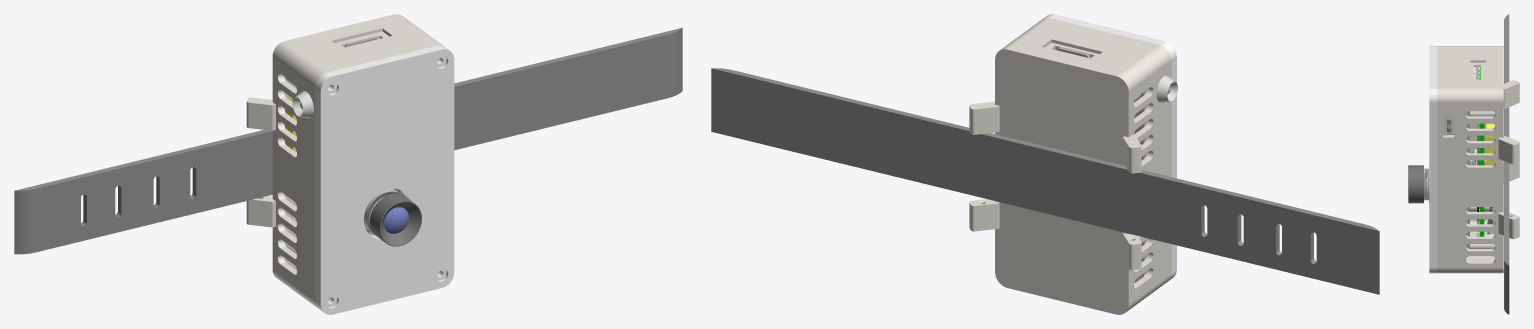
The model's file is main-assembly.glb.
3 renders of one model, left to right at view 1: azimuth 30°, elevation 25°; view 2: azimuth 150°, elevation 25°; view 3: azimuth 270°, elevation 25°, orthographic. The views are drawn at different scales.
Parts seen in each view (by area): view 1: Wrist Strap-2, Case Lid-1, Case Bottom-1, Component1_3-1, SL2616 - 3mm Grn LED.step-2; view 2: Wrist Strap-2, Case Bottom-1, Case Lid-1, SL2616 - 3mm Grn LED.step-2; view 3: Case Bottom-1, Case Lid-1, Wrist Strap-2, Component1_3-1, PCB, Raspberry Pi Zero 2 W-1, SS12D00G3 Switch-3, Battery-2, Mounting Plate-2.
Boxes of the visible parts, left/top/right/bottom form: Wrist Strap-2: left=14, top=27, right=682, bottom=254; Case Lid-1: left=315, top=45, right=454, bottom=314; Case Bottom-1: left=246, top=14, right=443, bottom=307; Component1_3-1: left=364, top=188, right=421, bottom=246; SL2616 - 3mm Grn LED.step-2: left=292, top=91, right=313, bottom=118; Wrist Strap-2: left=711, top=68, right=1379, bottom=294; Case Bottom-1: left=969, top=18, right=1171, bottom=314; Case Lid-1: left=1043, top=14, right=1176, bottom=280; SL2616 - 3mm Grn LED.step-2: left=1156, top=75, right=1177, bottom=102; Case Bottom-1: left=1437, top=46, right=1519, bottom=273; Case Lid-1: left=1429, top=46, right=1437, bottom=273; Wrist Strap-2: left=1504, top=14, right=1509, bottom=314; Component1_3-1: left=1408, top=165, right=1429, bottom=203; PCB, Raspberry Pi Zero 2 W-1: left=1480, top=67, right=1484, bottom=236; SS12D00G3 Switch-3: left=1443, top=116, right=1453, bottom=134; Battery-2: left=1486, top=123, right=1495, bottom=165; Mounting Plate-2: left=1466, top=111, right=1469, bottom=248.
Size of the model in its own units: 0.22 by 0.075 by 0.041.
